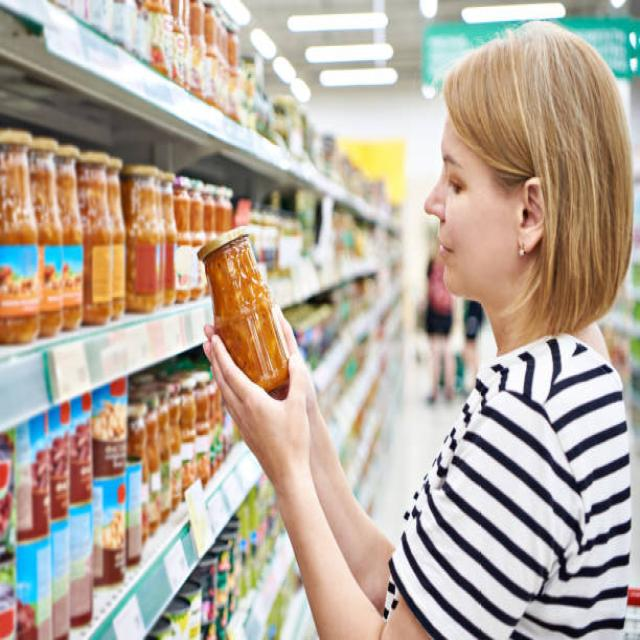article: (198, 227, 289, 390)
hands: (203, 311, 429, 639)
person: (203, 24, 632, 639)
